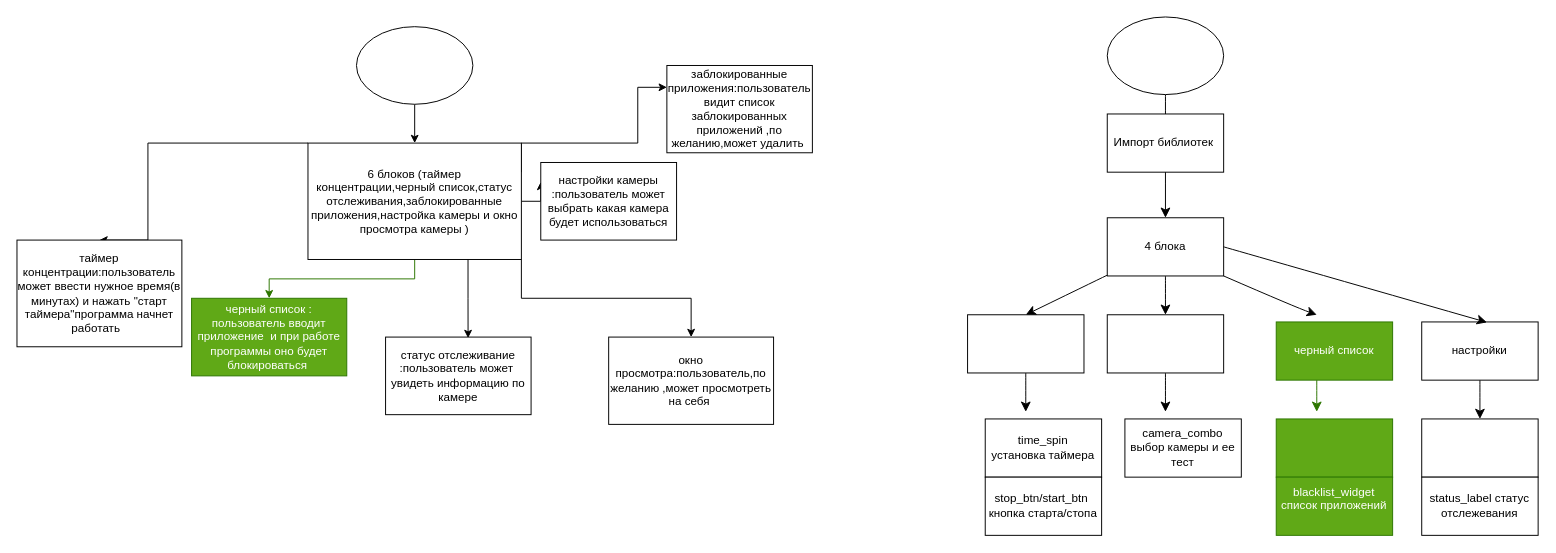
Image size: 1556x553. Some labels were removed from this diagram. Each missing label, with the box of its shape:
app_input ввод приложения: (1275, 418, 1393, 477)
show_camera_сheck показ камеры: (1421, 418, 1538, 477)
Запуск приложения: (356, 26, 473, 104)
запуск программы: (1106, 16, 1224, 95)
камера: (1106, 314, 1224, 373)
таймер: (967, 314, 1084, 373)
